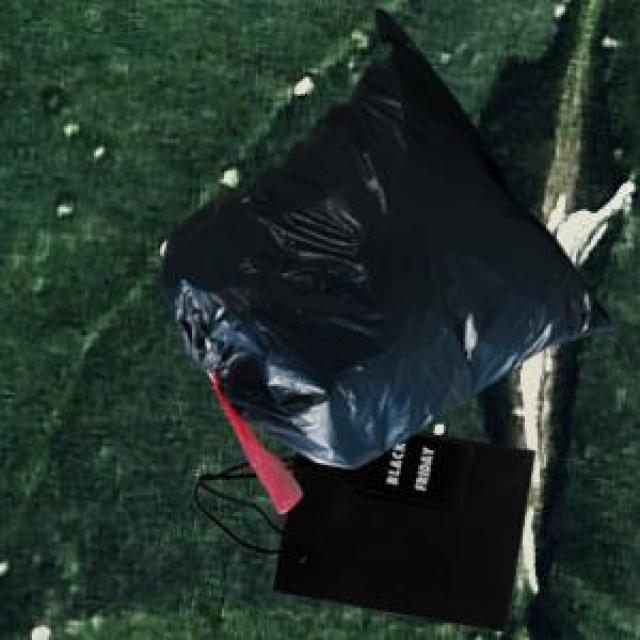miscellaneous trash: (158, 4, 610, 510)
paper: (190, 429, 531, 627)
